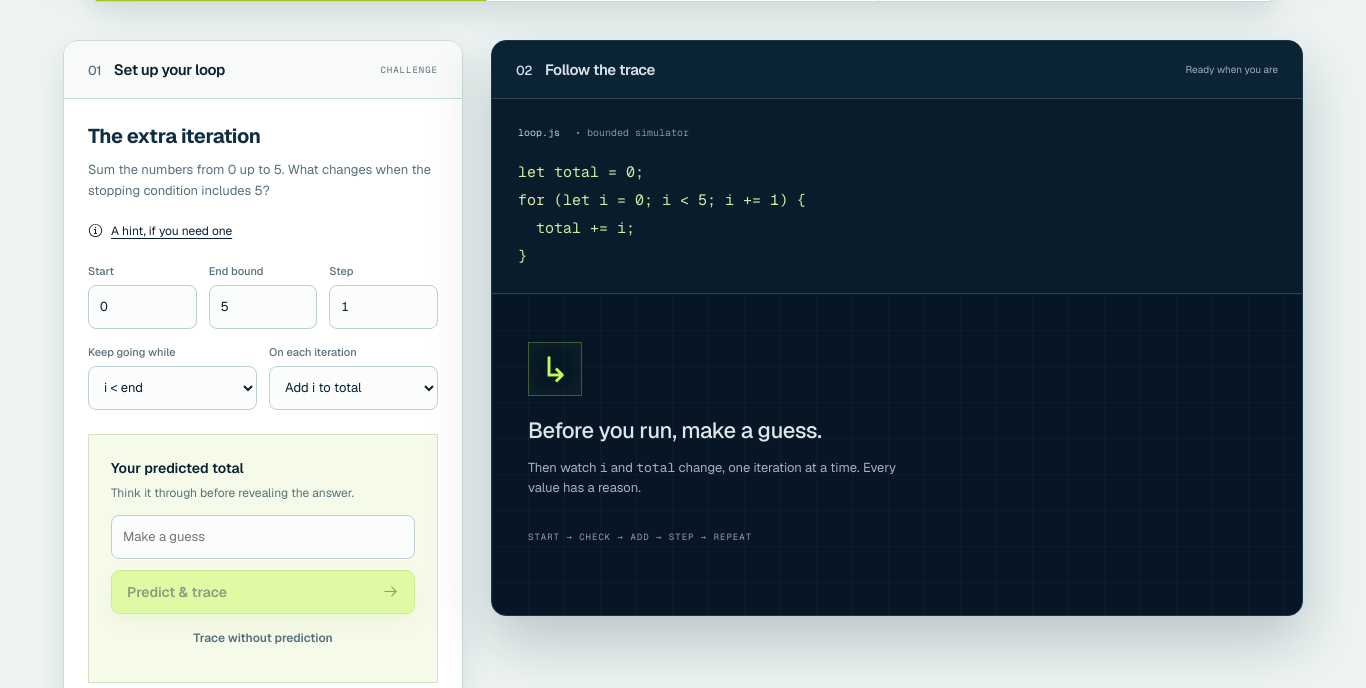
Test: learning flow › explains a loop whose condition is false before the first iteration
The width and height of the screenshot is (1366, 688).
(page scrolled)
Clear the number field named "Original start" at (142, 307), box [88, 285, 197, 329]
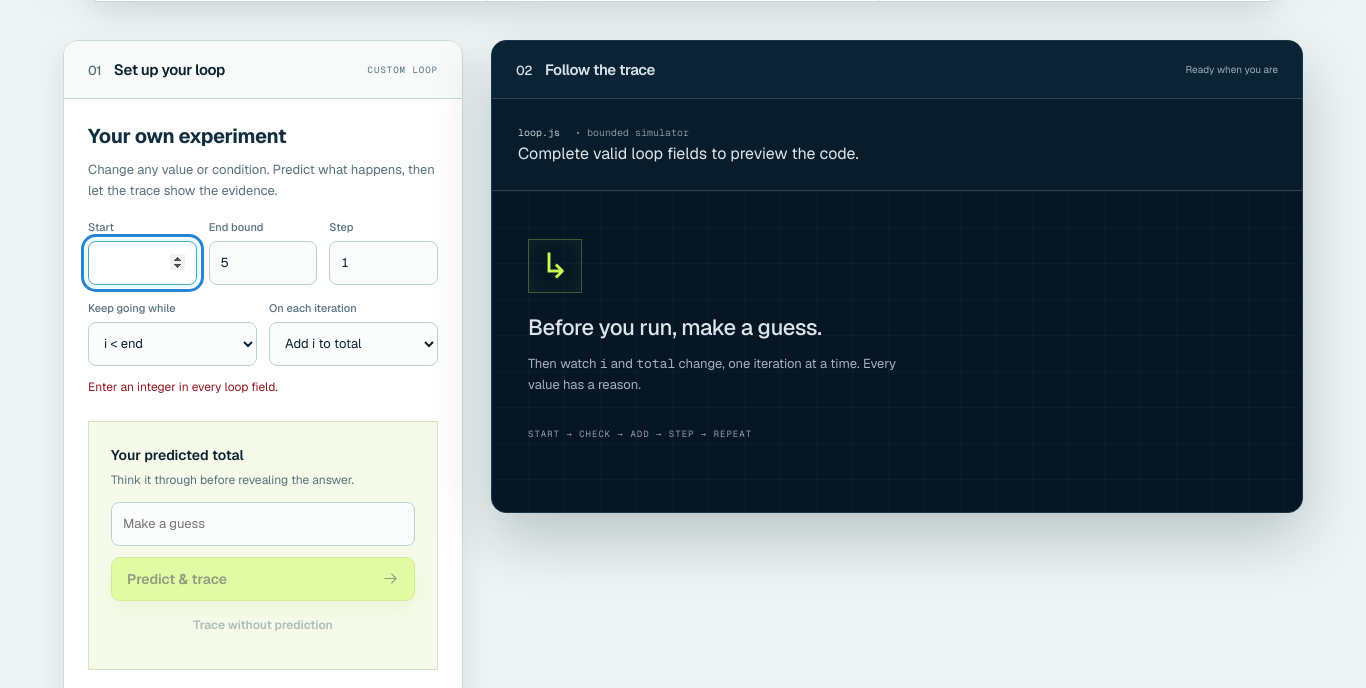
Type "9" into the number field named "Original start".
click(142, 263); type("9")  # box [88, 241, 197, 285]
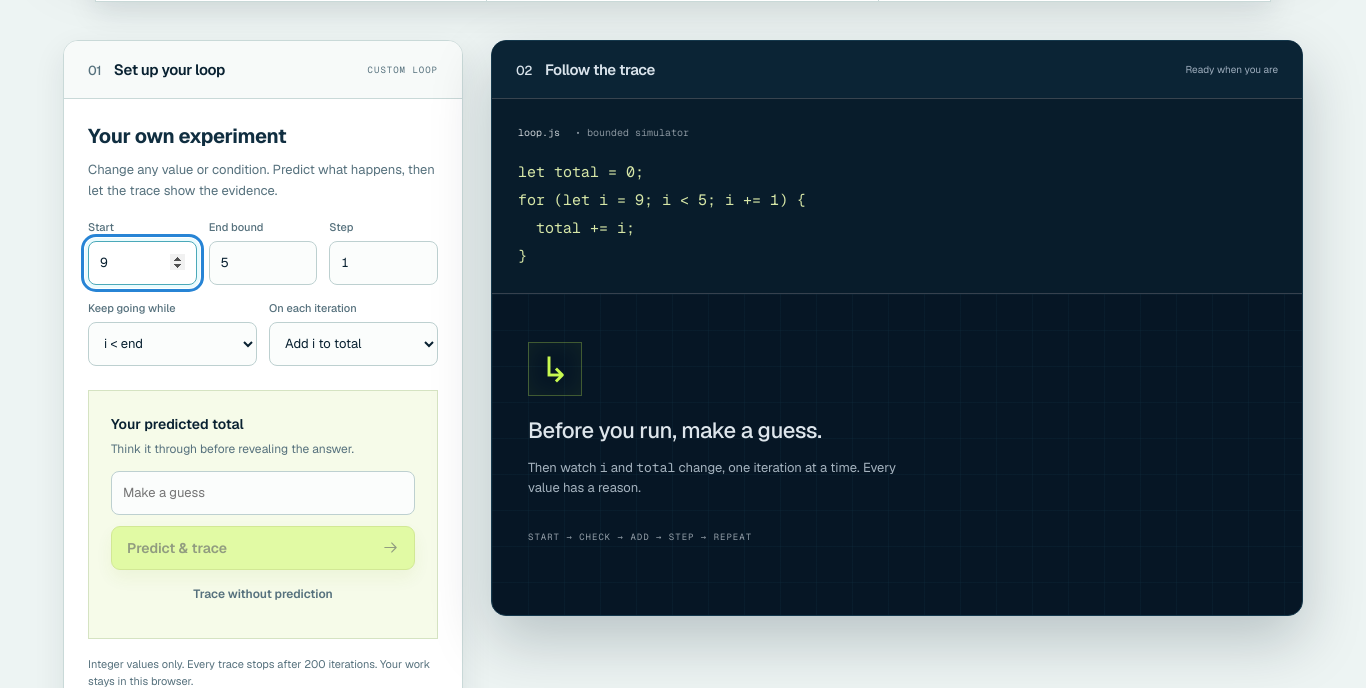
Click the button "Trace without prediction".
click(263, 594)  # box [193, 572, 333, 616]
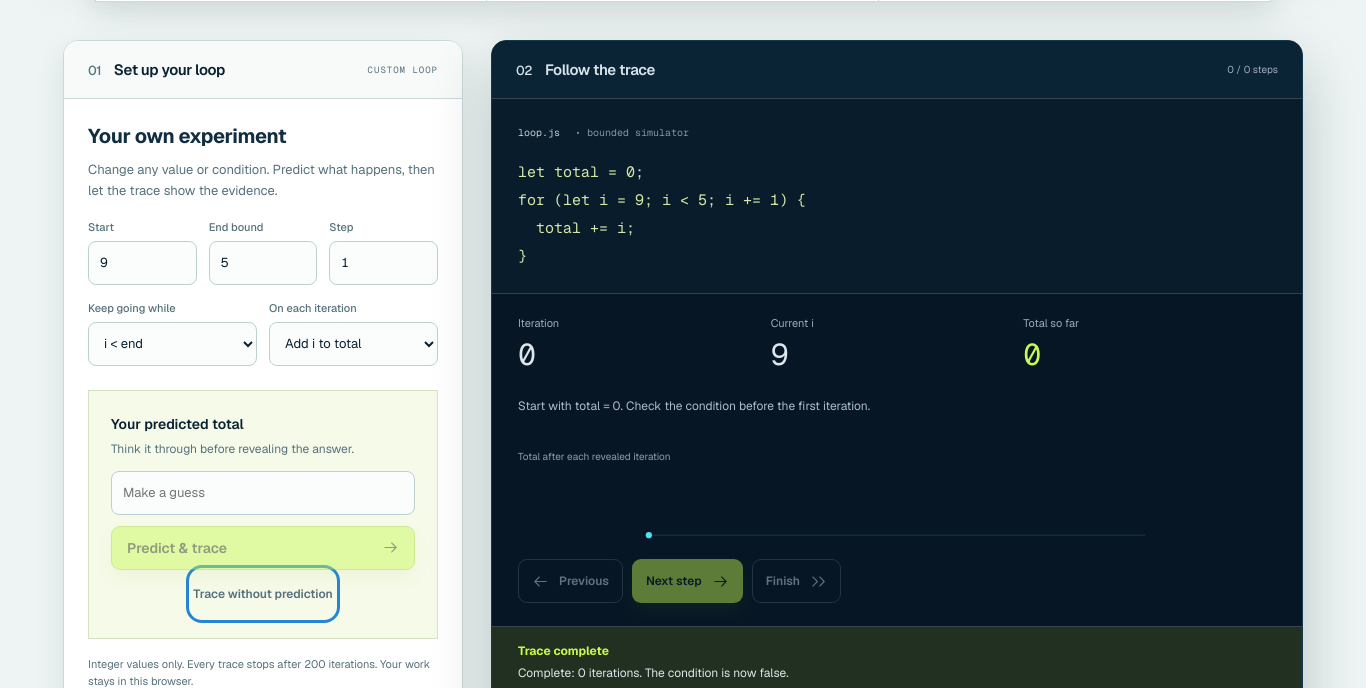
Expected: the button "Next step" is disabled, [632, 559, 743, 603]
